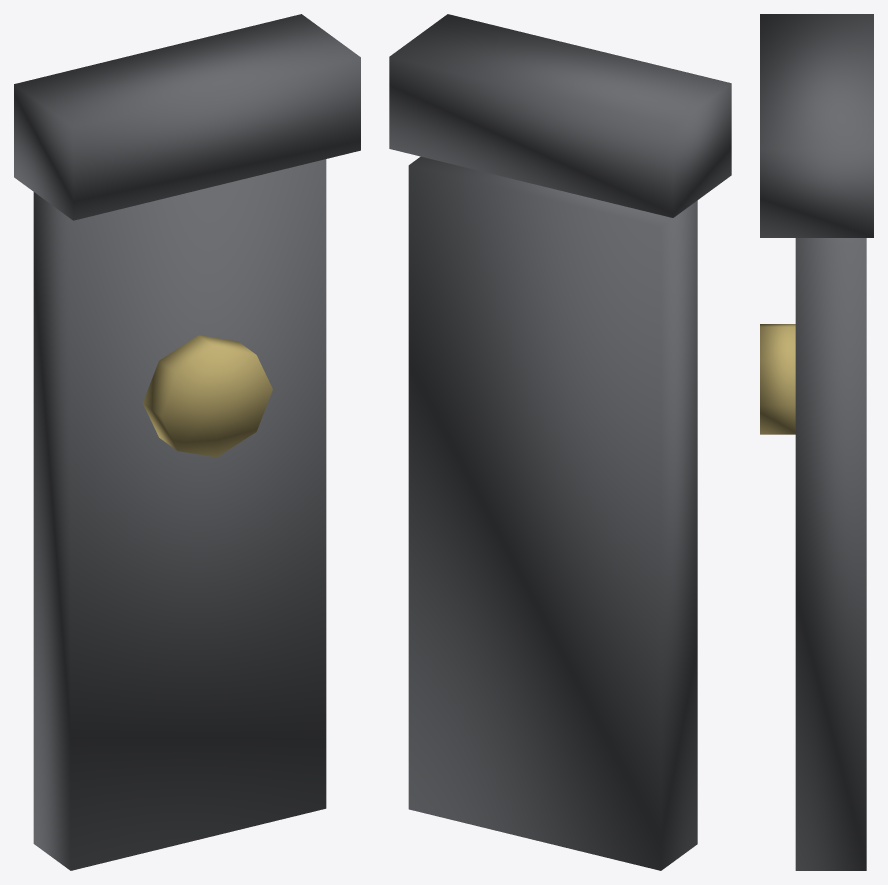
Rendered from elevator_call_12.glb.
The picture shows the model from 3 angles, left to right: view 1: azimuth 30°, elevation 25°; view 2: azimuth 150°, elevation 25°; view 3: azimuth 270°, elevation 25°; orthographic projection. The views are drawn at different scales.
Parts seen in each view (by area): view 1: world; view 2: world; view 3: world.
Part boxes in pixels (x1,y1,x2,y2): world: (14, 14, 360, 870); world: (389, 14, 731, 870); world: (760, 14, 873, 870).
Size of the model in its own units: 0.2016 by 0.5096 by 0.072.
